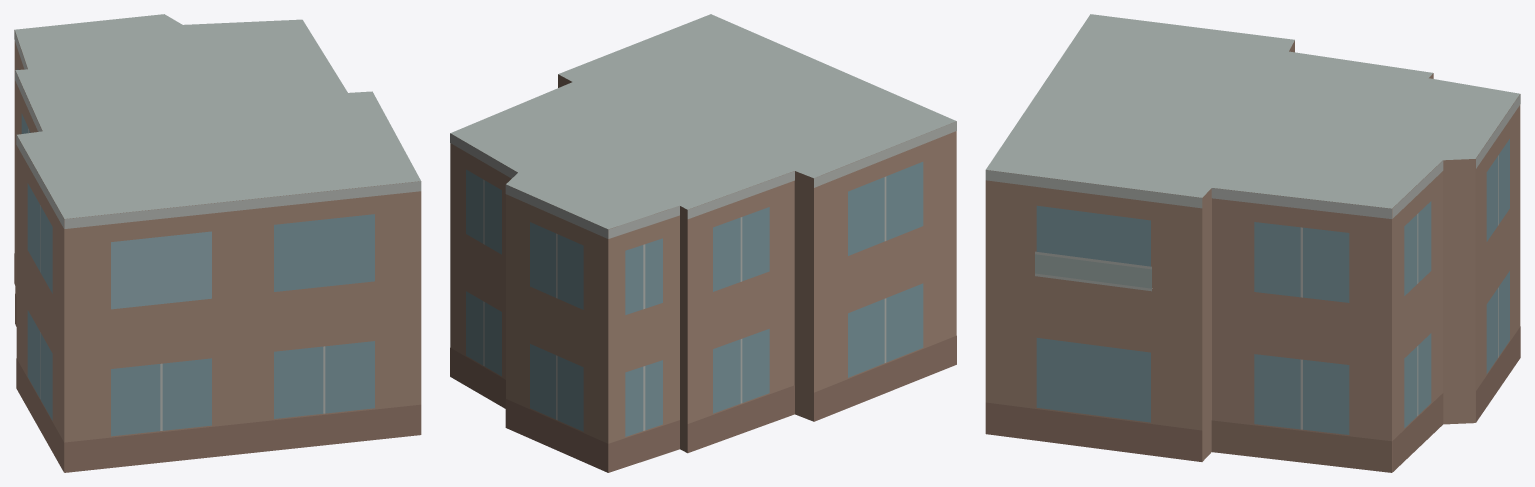
The model's file is survey-upis-32644912.glb.
3 renders of one model, left to right at view 1: azimuth 30°, elevation 25°; view 2: azimuth 150°, elevation 25°; view 3: azimuth 270°, elevation 25°, orthographic. The views are drawn at different scales.
Parts seen in each view (by area): view 1: survey-upis-32644912.tmp; view 2: survey-upis-32644912.tmp; view 3: survey-upis-32644912.tmp.
Part boxes in pixels (box(x1,y1,x2,y2)): survey-upis-32644912.tmp: box(14, 14, 421, 472); survey-upis-32644912.tmp: box(450, 14, 956, 472); survey-upis-32644912.tmp: box(985, 14, 1520, 472).
Bounding box in the file's own units: 9.64 × 6.1 × 11.2.
